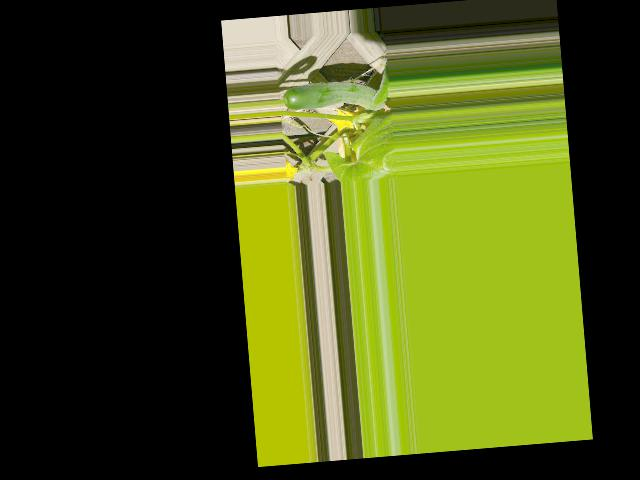cucumber: (283, 76, 391, 117)
